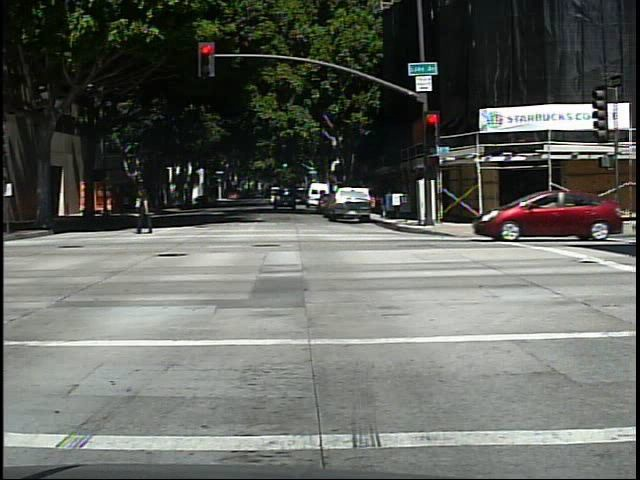person: (130, 183, 164, 235)
